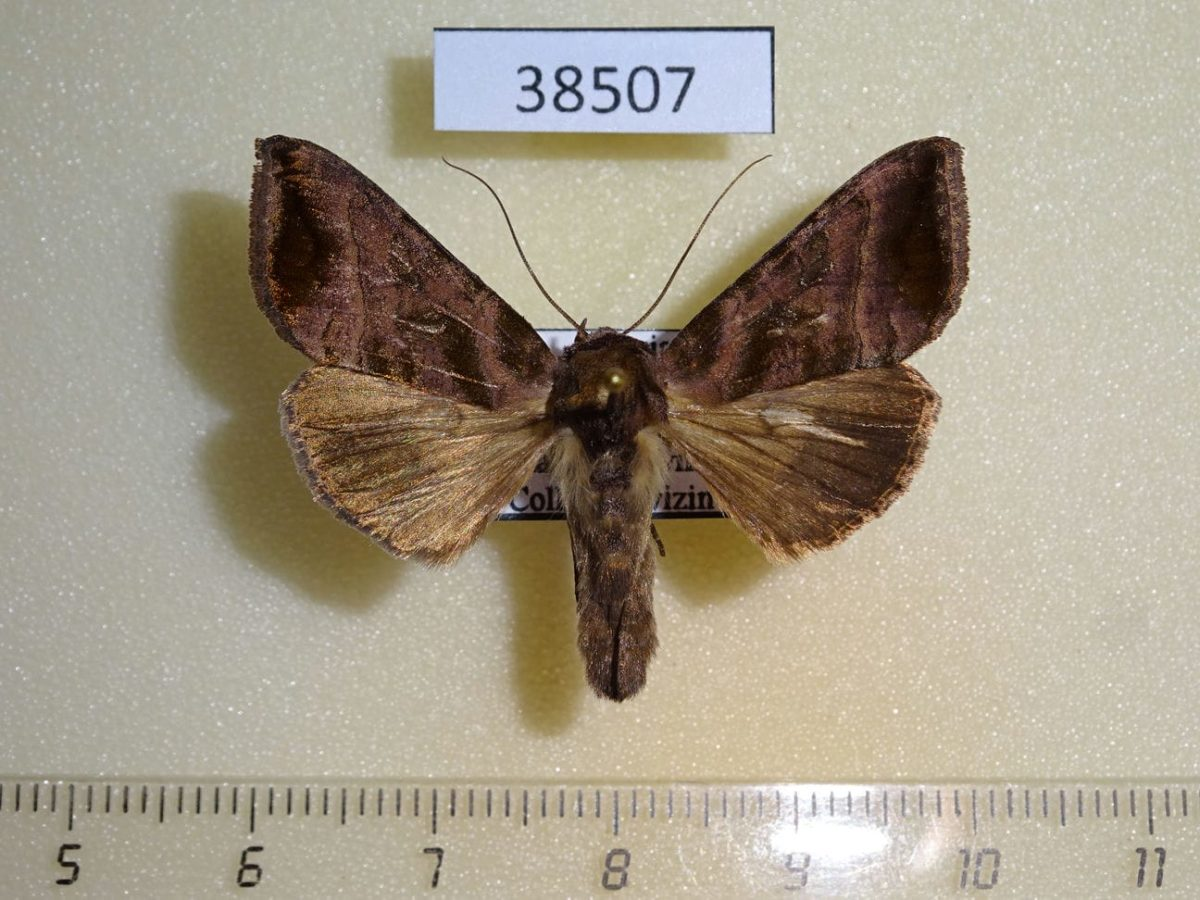Noctuidae: (244, 136, 976, 709)
